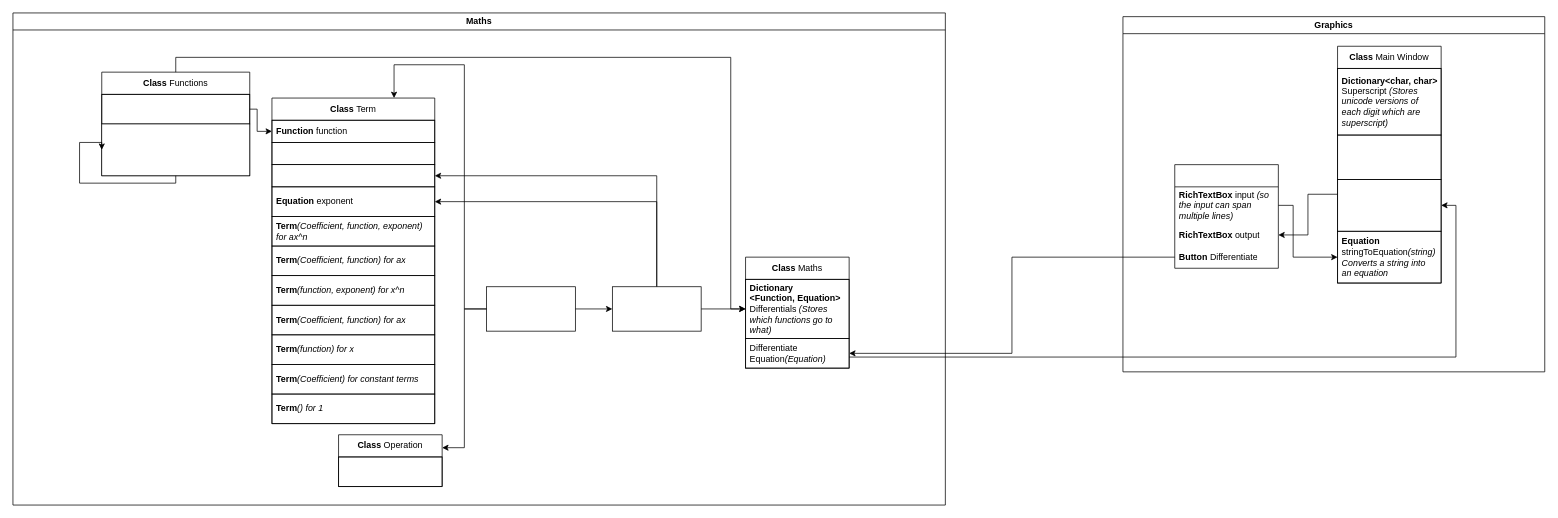
Image size: 1558x518. Some labels were removed from this diagram. Each missing label, with the box of its shape:
Bool isSuperscript (If using superscript while typing equation): (1337, 134, 1441, 179)
Dictionary <Function, bool> functions (Checks if function requires input): (101, 123, 250, 176)
Enum Function (sin, cos, tan...): (101, 94, 250, 124)
Enum Operation Enum (Addition, Subtraction...): (338, 456, 442, 487)
Equation input: (271, 164, 435, 187)
Float coefficient: (271, 142, 435, 165)
Interface Equation Item: (486, 286, 575, 331)
List<Equation Item> Equation: (612, 286, 701, 331)
String EquationStr (Equation) Displays equation as string: (1337, 179, 1441, 231)
UI: (1174, 164, 1278, 268)
